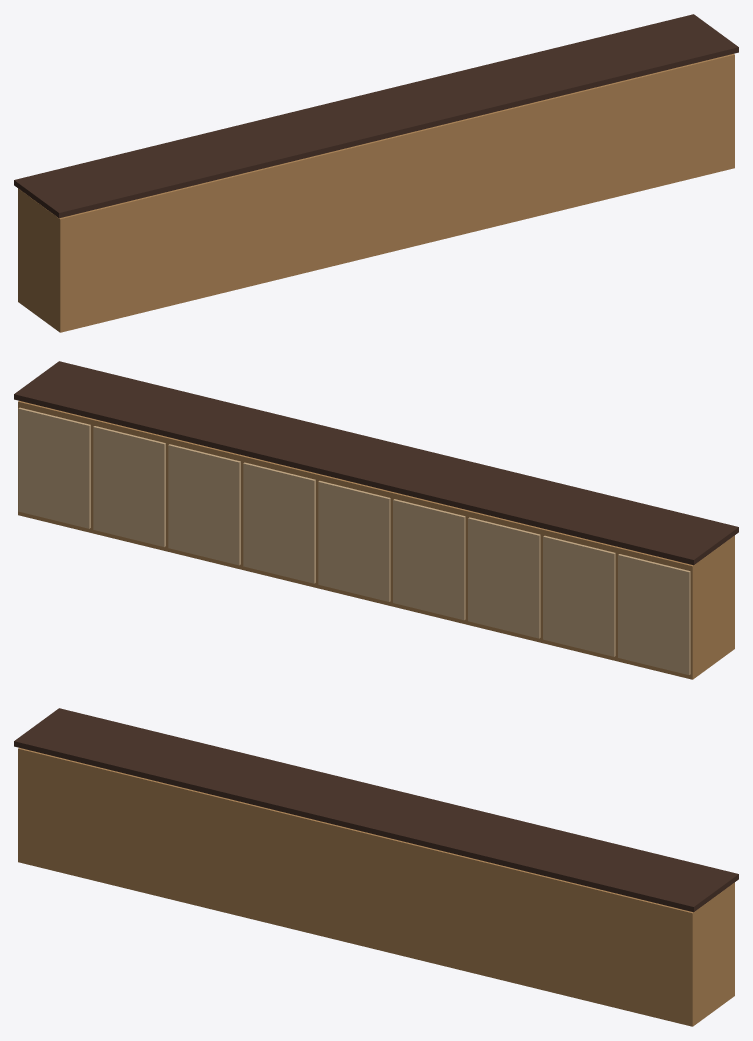
3 views of the same model, one above another, from view 1: azimuth 30°, elevation 25°; view 2: azimuth 150°, elevation 25°; view 3: azimuth 330°, elevation 25° (orthographic).
Visible parts, largest first — view 1: mueble_ster; view 2: mueble_ster; view 3: mueble_ster.
Part boxes in pixels (box(x1,y1,x2,y2)): mueble_ster: box(14, 14, 738, 332); mueble_ster: box(14, 361, 738, 679); mueble_ster: box(14, 708, 738, 1026).
Size of the model in its own units: 5.39 by 0.622 by 0.92.
